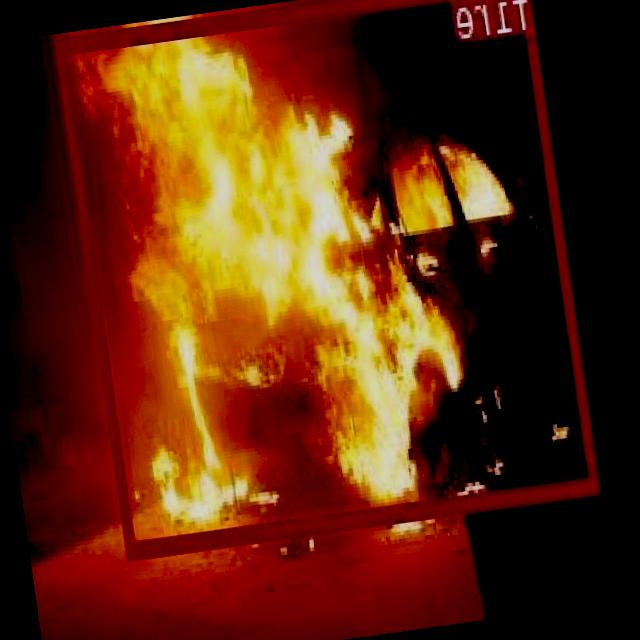fire: (56, 0, 601, 556)
